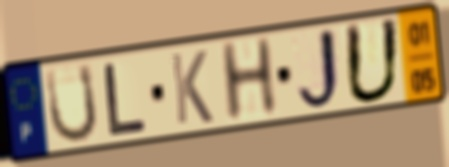H: (216, 34, 281, 126)
J: (294, 25, 346, 114)
K: (168, 47, 216, 127)
L: (101, 60, 149, 138)
U: (342, 15, 403, 107), (43, 60, 101, 147)
